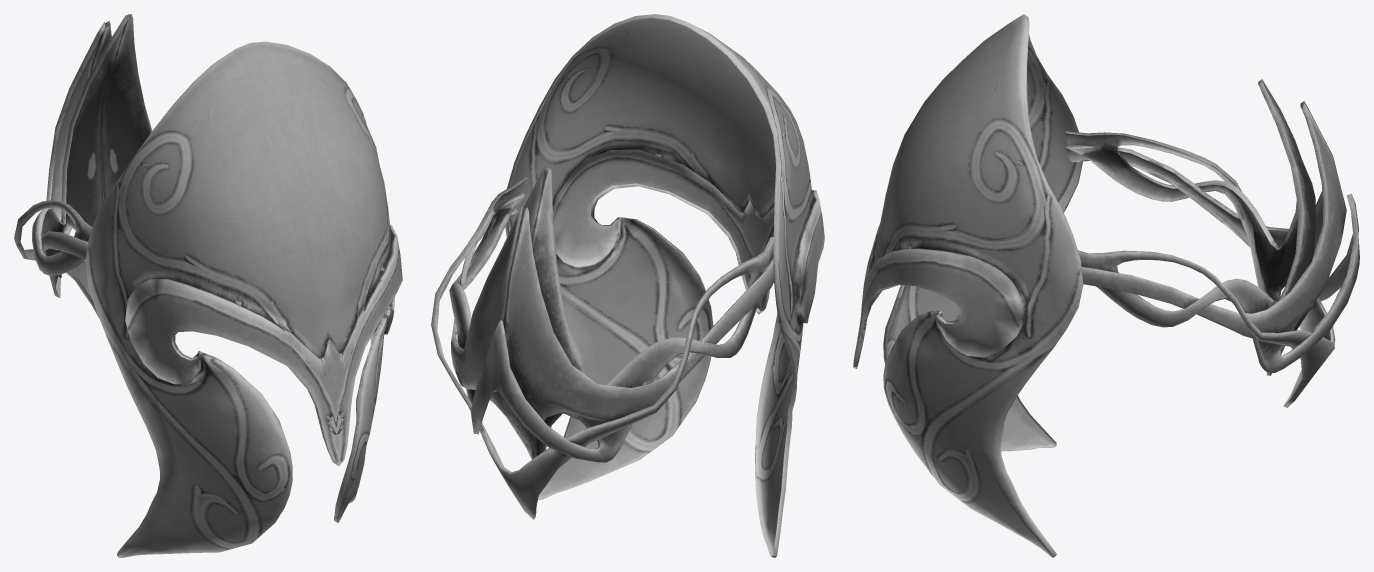
File: rivendell_helmet_lord_circletmask_silver.fbx
3 views of the same model, side by side, from view 1: azimuth 30°, elevation 25°; view 2: azimuth 150°, elevation 25°; view 3: azimuth 270°, elevation 25° (orthographic). The views are drawn at different scales.
Visible parts, largest first — view 1: rivendell_helmet_lord_circletmask_silver.1, rivendell_helmet_lord_circletmask_silver.0; view 2: rivendell_helmet_lord_circletmask_silver.1, rivendell_helmet_lord_circletmask_silver.0; view 3: rivendell_helmet_lord_circletmask_silver.1, rivendell_helmet_lord_circletmask_silver.0.
Boxes of the visible parts, x1,y1,x2,y2 form: rivendell_helmet_lord_circletmask_silver.1: [85, 41, 402, 557]; rivendell_helmet_lord_circletmask_silver.0: [14, 14, 152, 318]; rivendell_helmet_lord_circletmask_silver.1: [505, 14, 824, 557]; rivendell_helmet_lord_circletmask_silver.0: [431, 167, 775, 519]; rivendell_helmet_lord_circletmask_silver.1: [853, 14, 1083, 557]; rivendell_helmet_lord_circletmask_silver.0: [1065, 79, 1359, 407].
Bounding box in the file's own units: 0.1767 × 0.2903 × 0.3038.
Materials: 2 (2 with a texture image).
